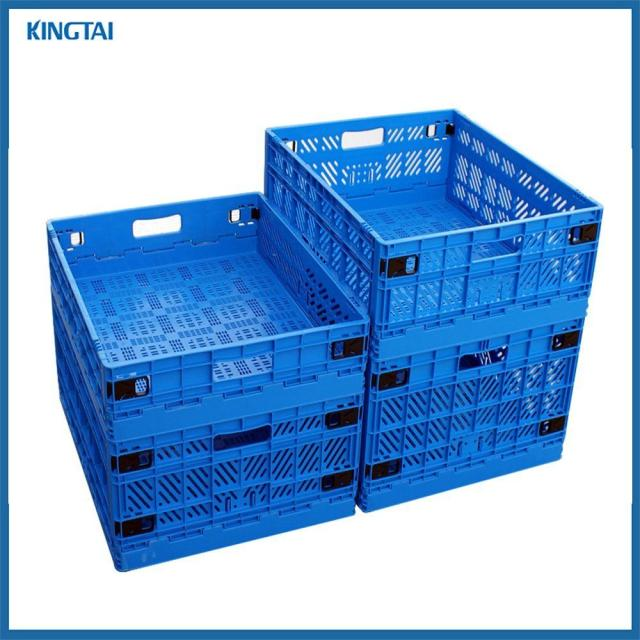basket: (18, 154, 413, 577), (254, 68, 620, 354)
